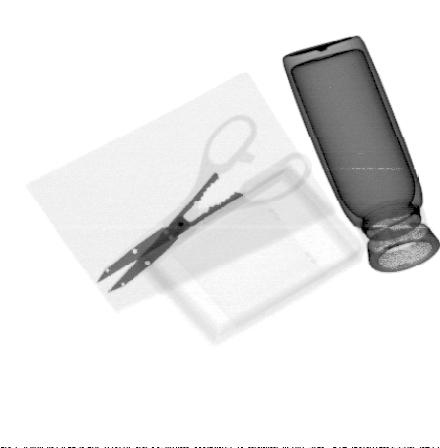Scissors: (95, 115, 314, 293)
